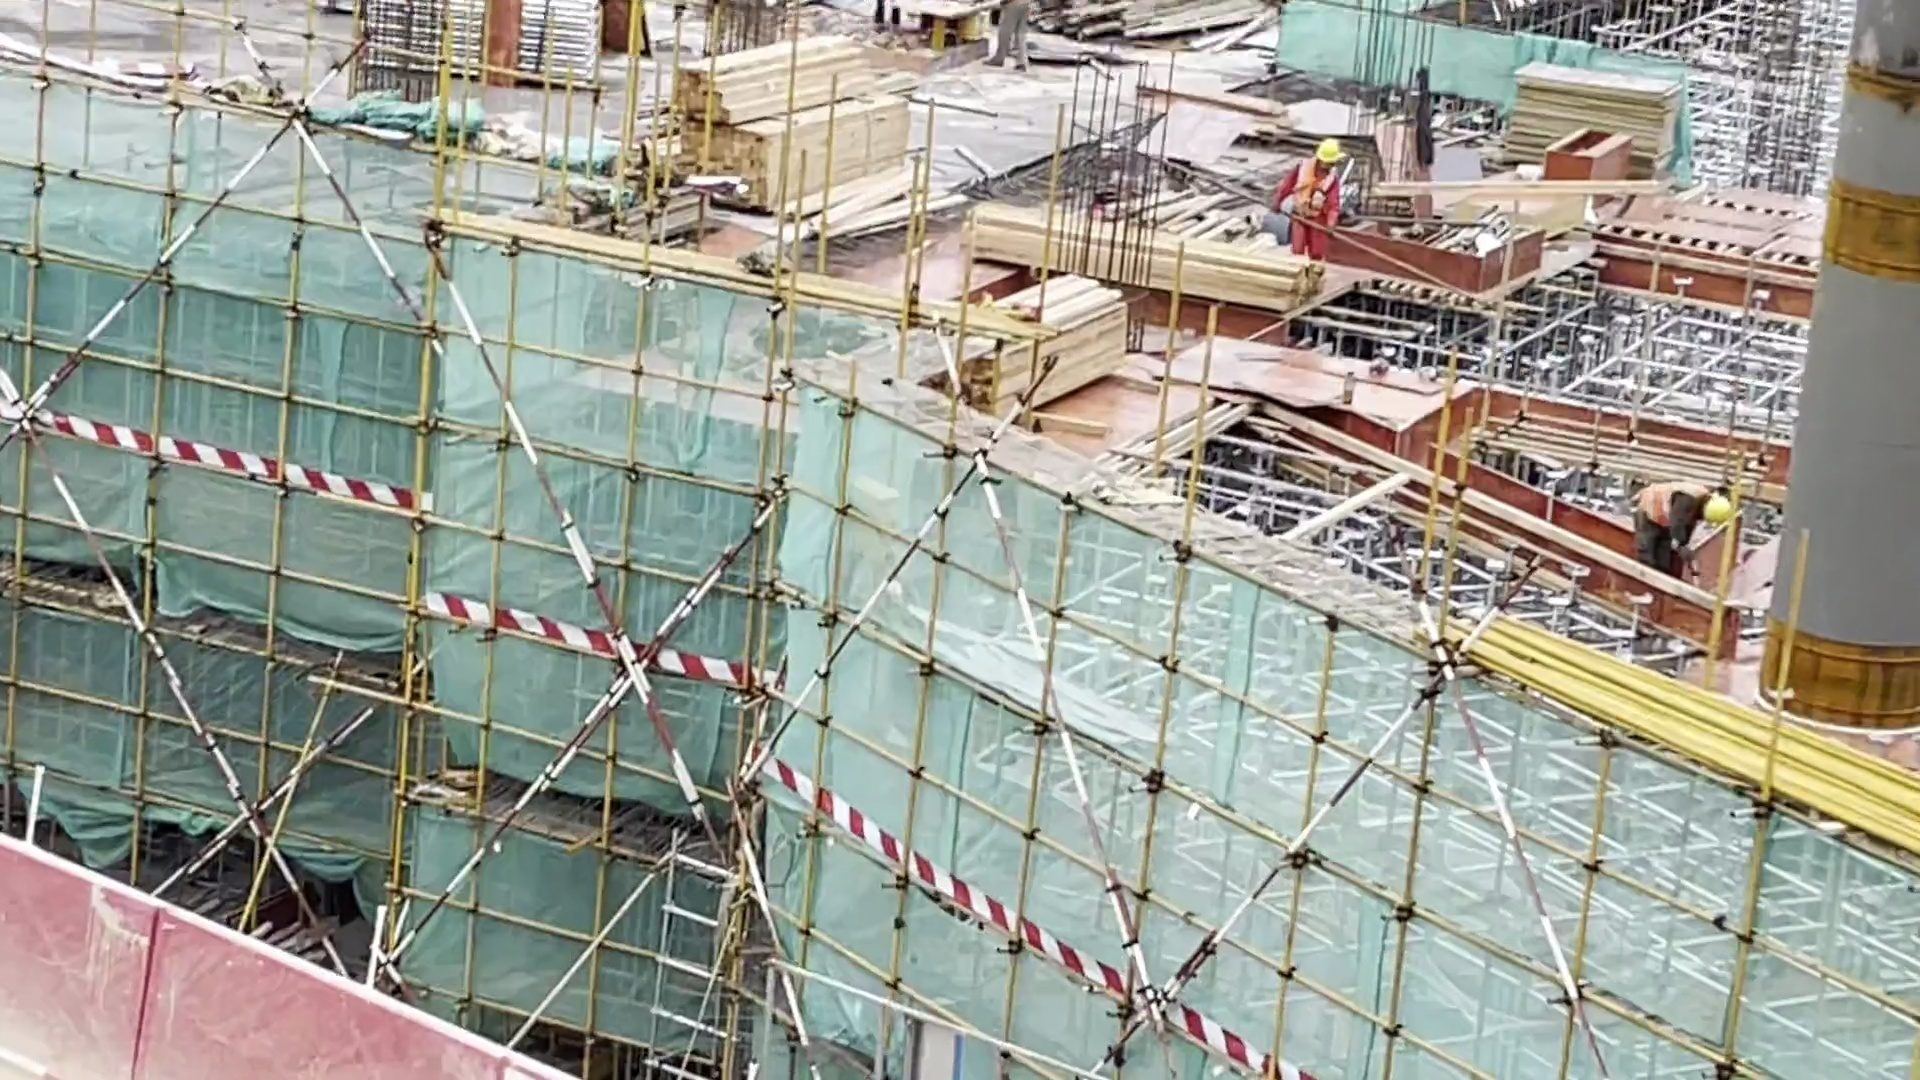helmet: (1310, 126, 1359, 178), (1700, 483, 1739, 533)
person: (1630, 461, 1742, 584), (1284, 127, 1351, 274)
scaffold: (360, 4, 611, 90)
vest: (1637, 474, 1694, 528), (1293, 169, 1344, 227)
wood: (674, 36, 909, 220), (966, 204, 1318, 310), (989, 277, 1121, 408)
